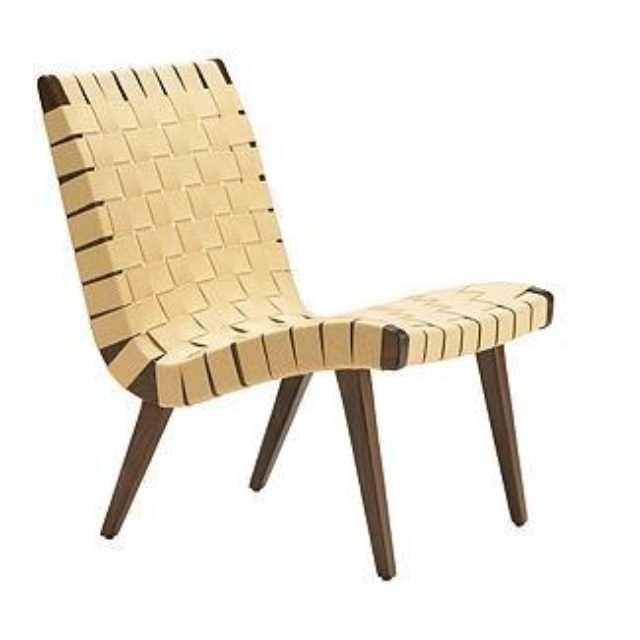obstacle: (37, 59, 551, 577)
